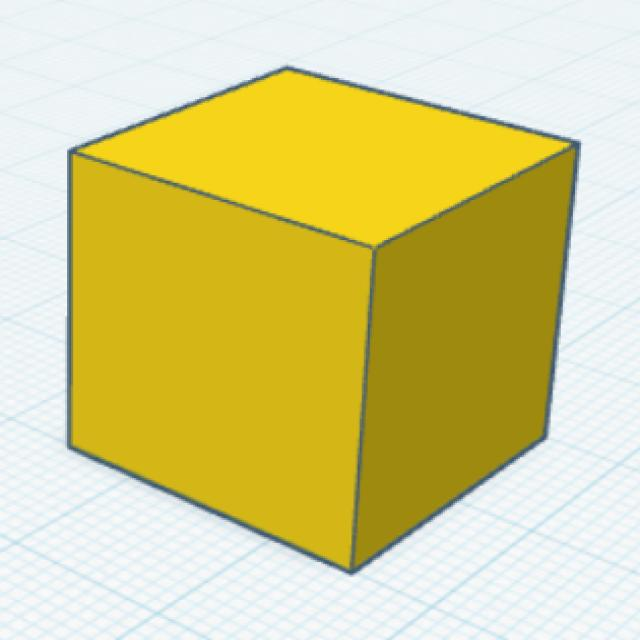cube: (62, 61, 585, 578)
